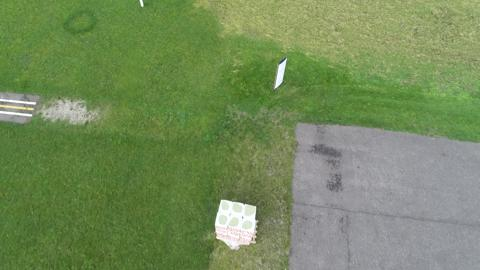RockwoolPallet: (215, 199, 257, 244)
